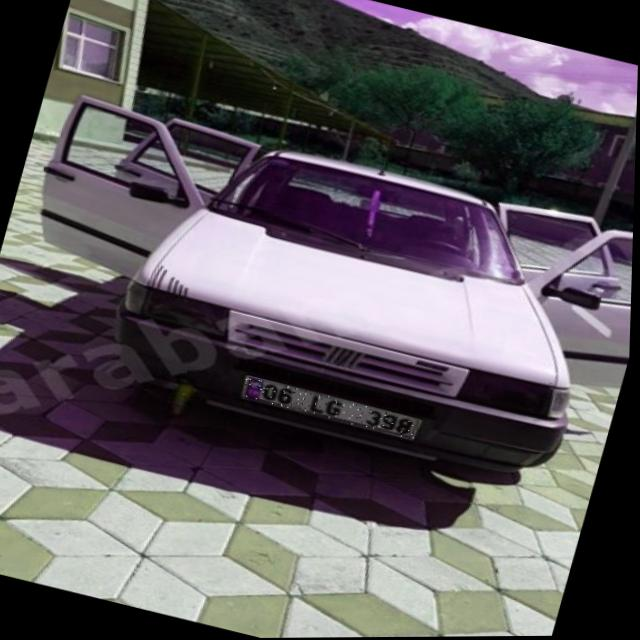license_plate: (242, 375, 425, 441)
